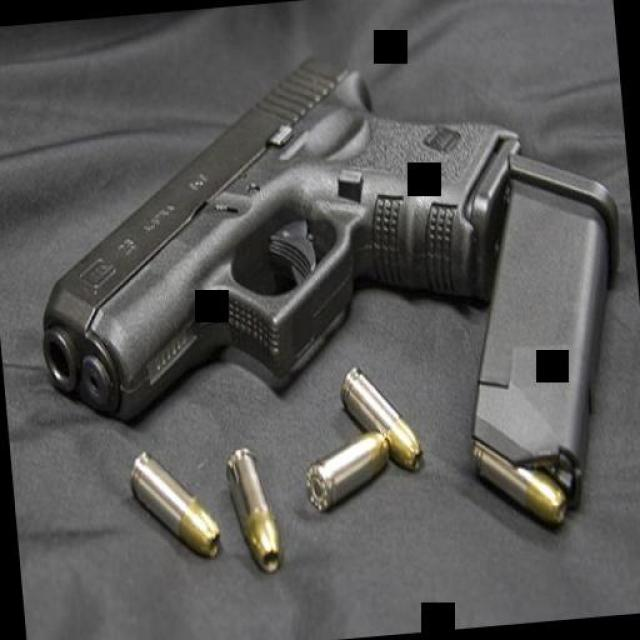gun: (6, 40, 542, 425)
